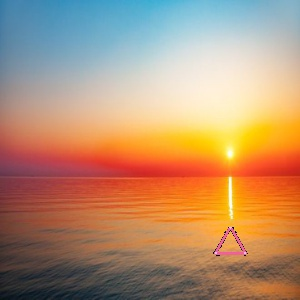triangle: (211, 224, 249, 259)
